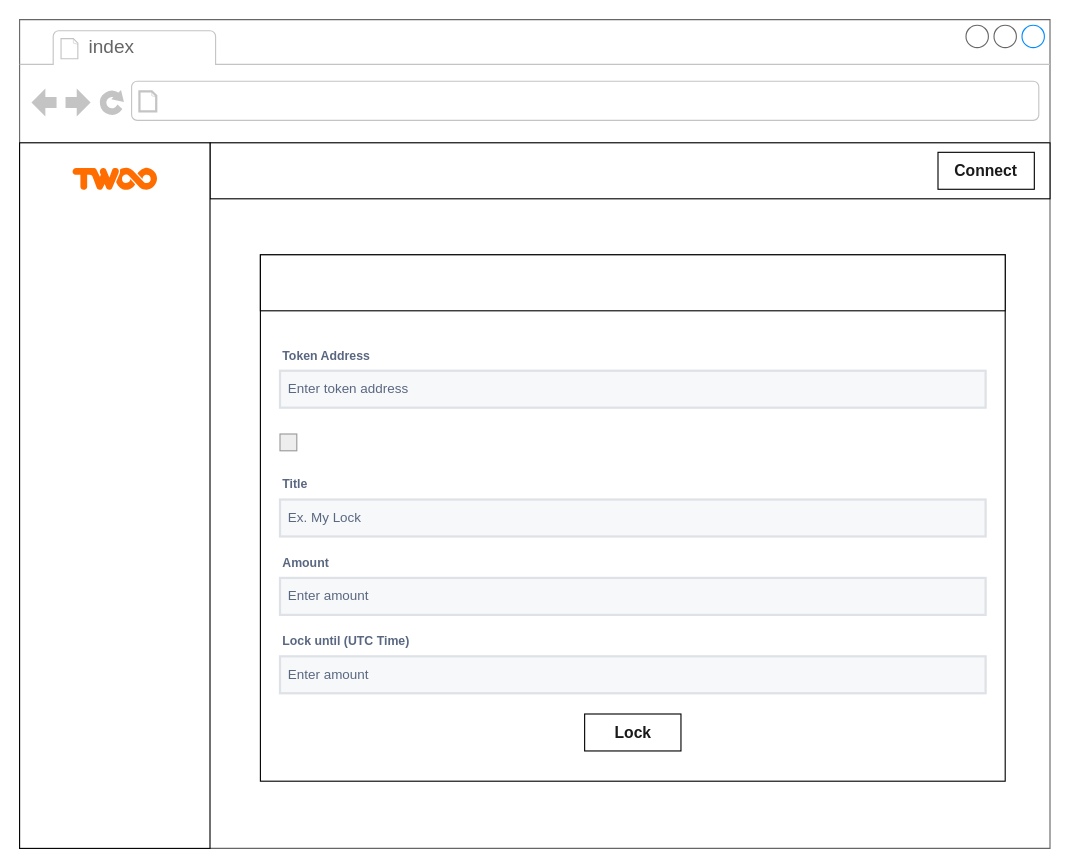
Some shapes in this 1070 by 868 pixel diagram are drawn without their labels. The shapes that lost their labels are listed below. From the top down, each one's box as (x1, y1, x2, y2) in pixels, then its label:
(164, 86, 445, 116): http://localhost:3000
(259, 254, 1005, 311): Create Your Lock
(279, 433, 297, 451): Use another owner?
